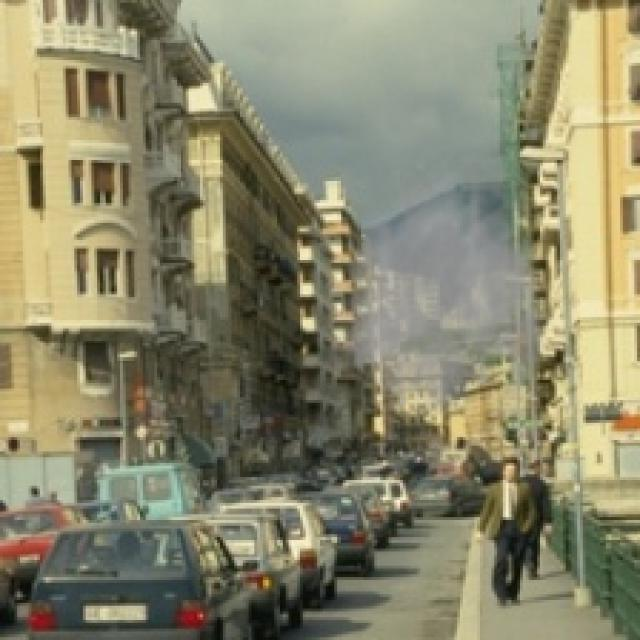Smoke: (334, 157, 563, 429)
